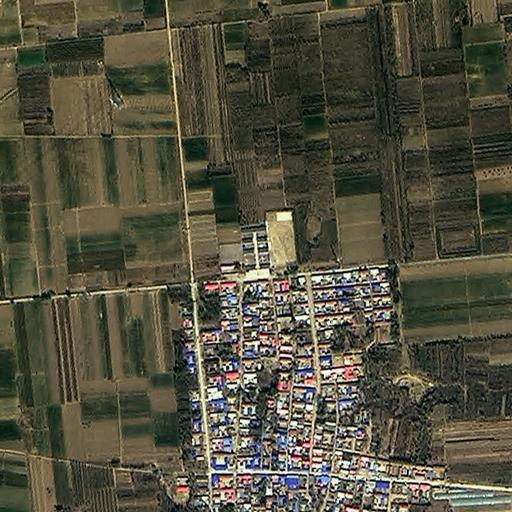school: (239, 209, 299, 272)
